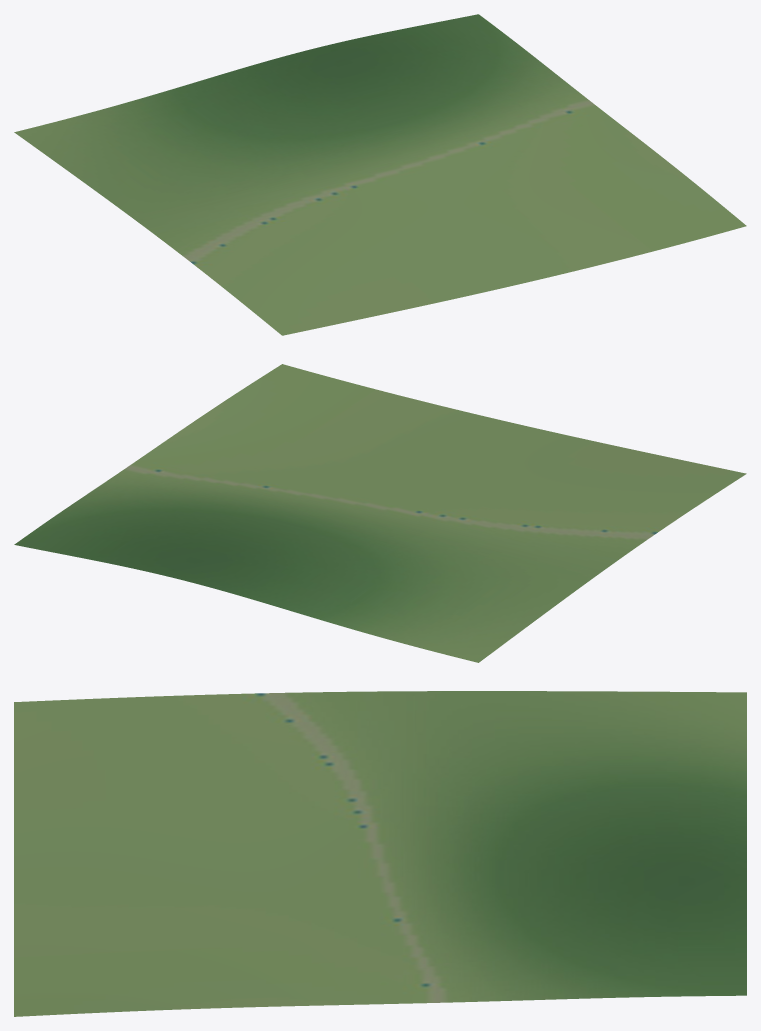
File: terrain_T_W01_S01.glb
3 renders of one model, top to bottom at view 1: azimuth 30°, elevation 25°; view 2: azimuth 150°, elevation 25°; view 3: azimuth 270°, elevation 25°, orthographic. The views are drawn at different scales.
Parts seen in each view (by area): view 1: Terrain_T_W01_S01; view 2: Terrain_T_W01_S01; view 3: Terrain_T_W01_S01.
Boxes of the visible parts, x1,y1,x2,y2 form: Terrain_T_W01_S01: (14,14,746,335); Terrain_T_W01_S01: (14,364,746,662); Terrain_T_W01_S01: (14,691,746,1016).
Bounding box in the file's own units: 2000 × 103 × 2000.
Materials: 1 (1 with a texture image).
